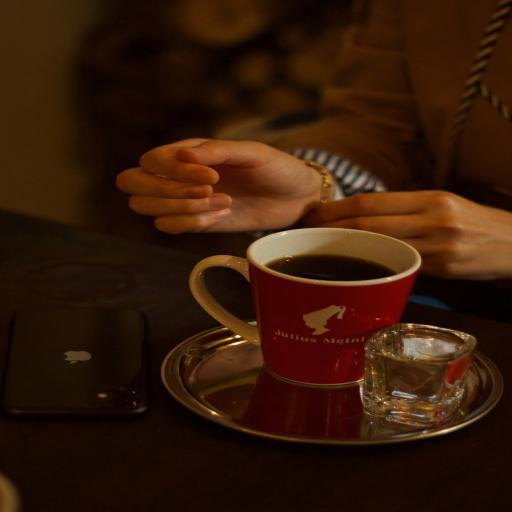cup: (190, 228, 422, 389)
